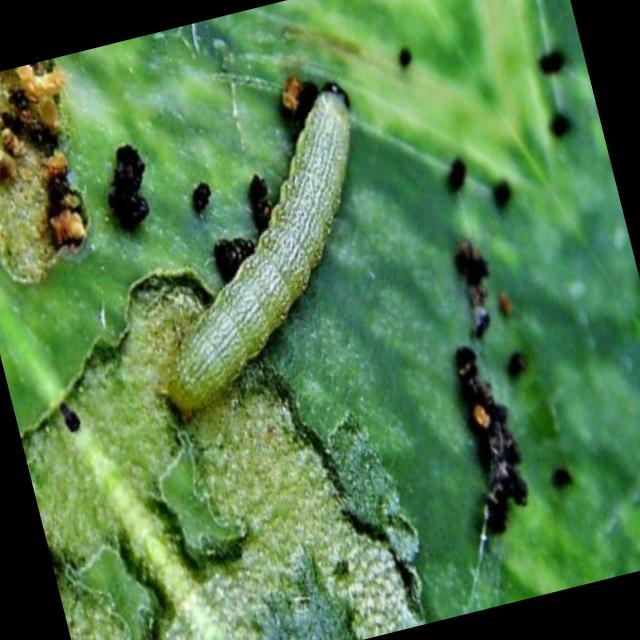Armyworm: (95, 49, 465, 484)
